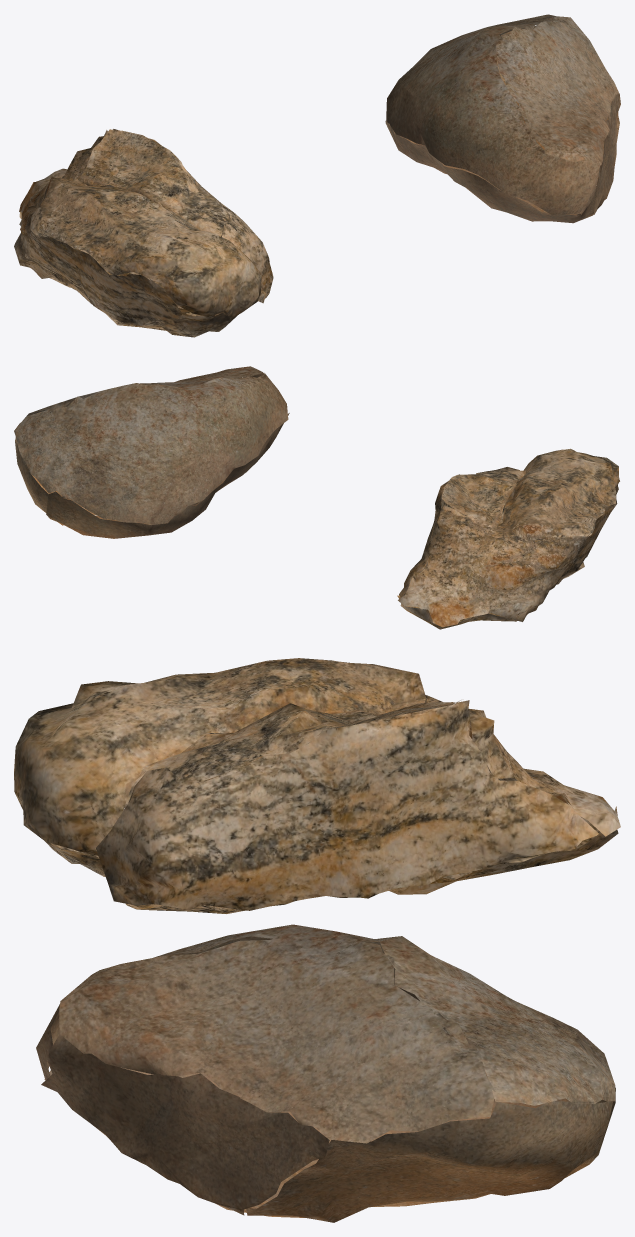
File: namaqualand_boulders_01.glb
The picture shows the model from 3 angles, top to bottom: view 1: azimuth 30°, elevation 25°; view 2: azimuth 150°, elevation 25°; view 3: azimuth 270°, elevation 25°; orthographic projection. The views are drawn at different scales.
Visible parts, largest first — view 1: namaqualand_boulders_01; view 2: namaqualand_boulders_01; view 3: namaqualand_boulders_01.
Part boxes in pixels (x1,y1,x2,y2): namaqualand_boulders_01: (14,14,620,337); namaqualand_boulders_01: (14,366,619,629); namaqualand_boulders_01: (14,658,620,1222).
Bounding box in the file's own units: 1.06 × 0.2536 × 0.5797.
Materials: 1 (1 with a texture image).
